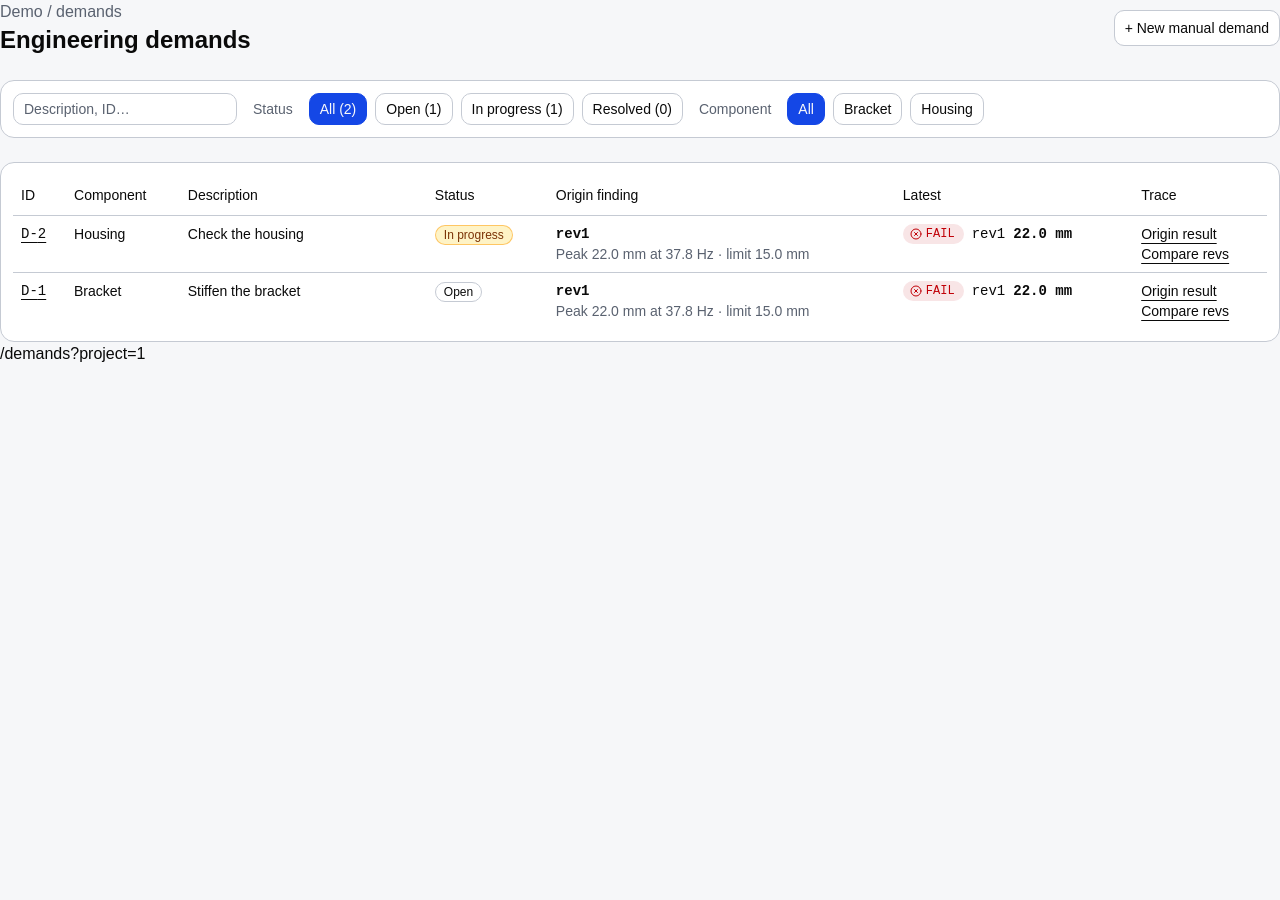
Test: opens the drawer from a row click and closes it, clearing the param
Click the text "Stiffen the bracket" at point(303, 300), box [180, 272, 427, 328]
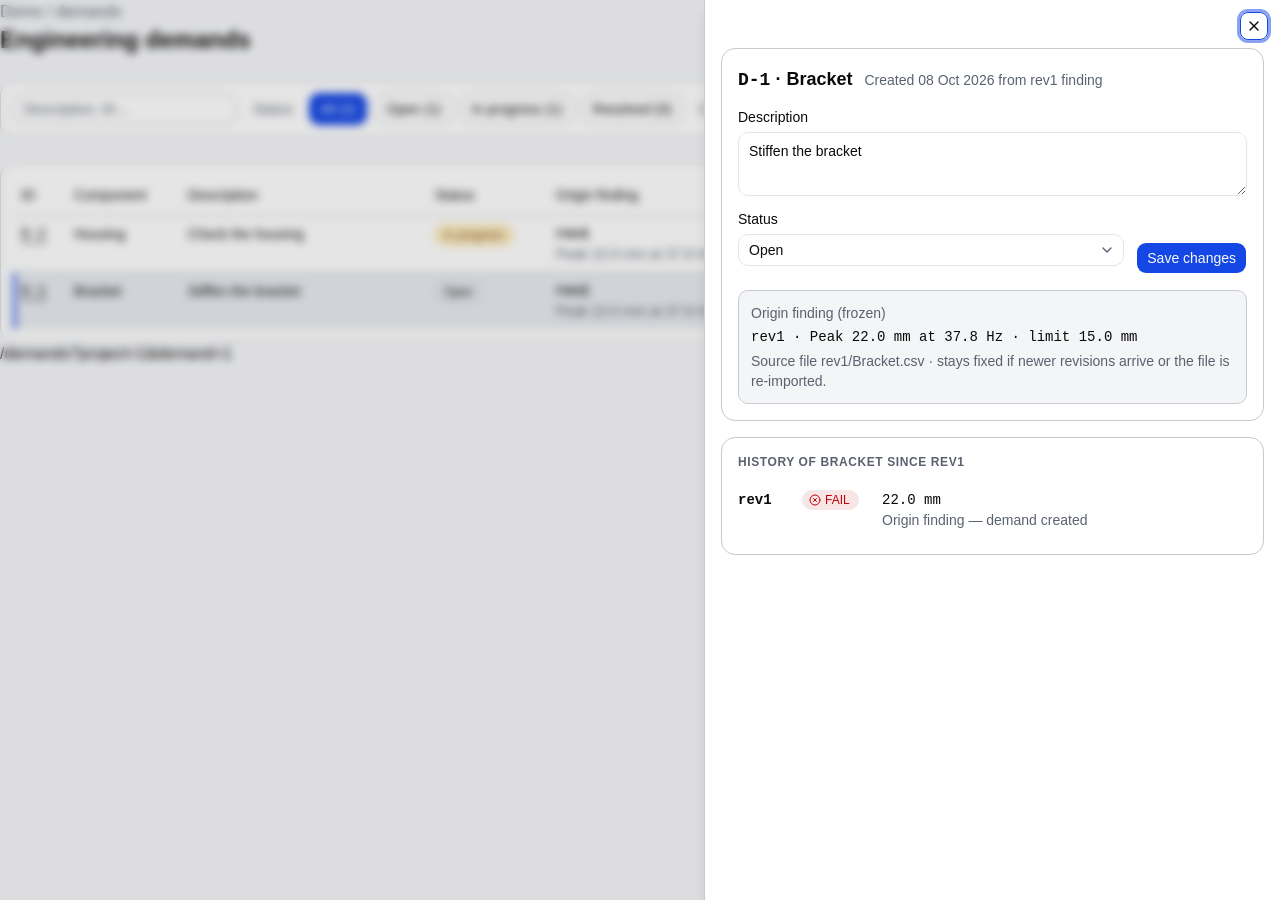
Result: the text with test id "url" reads "/demands?project=1&demand=1" at [0, 344, 232, 362]
Result: the heading "D-1 · Bracket" is shown at [738, 65, 852, 94]
Press Escape in the 1st button, box [1240, 12, 1268, 40]
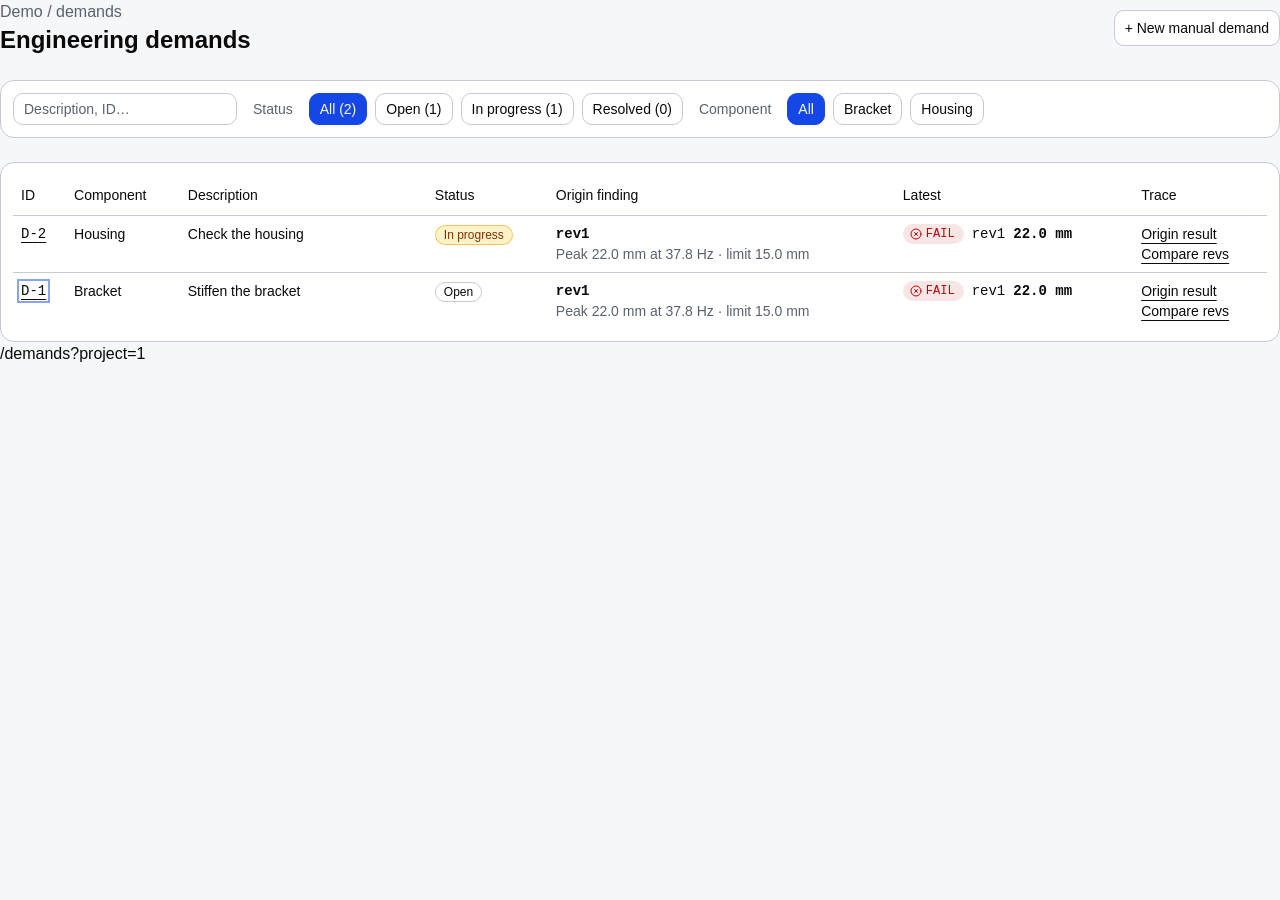
Result: the dialog is gone
Result: the text with test id "url" reads "/demands?project=1" at [0, 344, 145, 362]
Result: the text with test id "url" no longer shows "demand=" at [0, 344, 145, 362]
